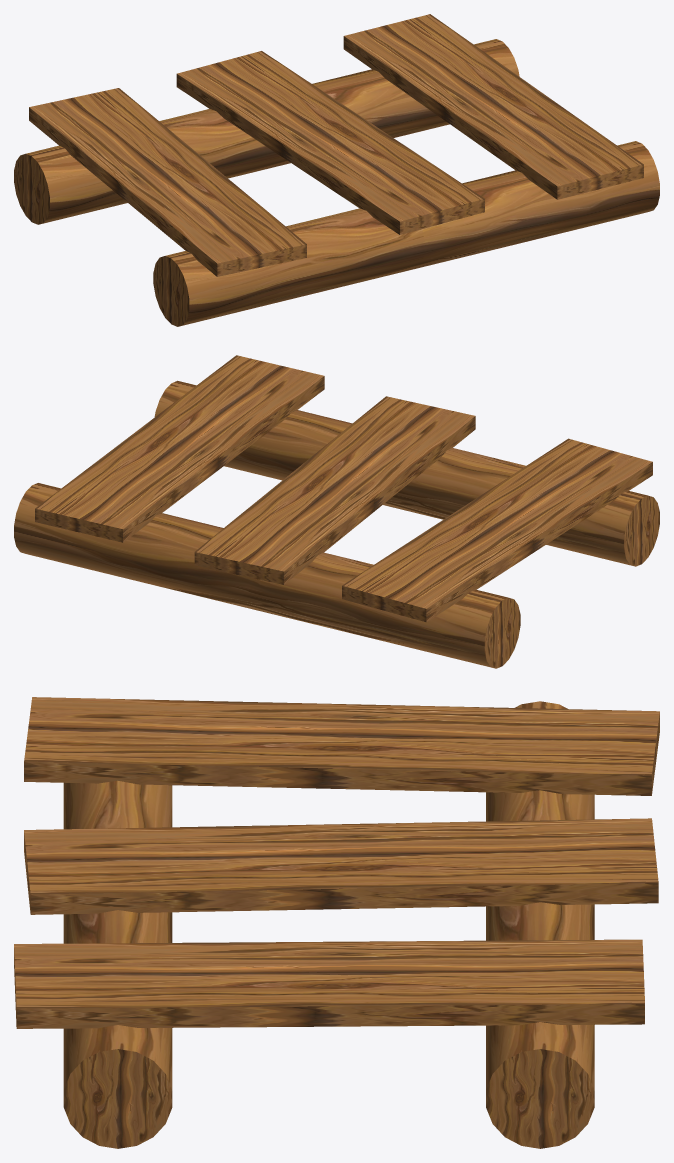
Rendered from Pallet.FBX.
The picture shows the model from 3 angles, top to bottom: view 1: azimuth 30°, elevation 25°; view 2: azimuth 150°, elevation 25°; view 3: azimuth 270°, elevation 25°; orthographic projection. The views are drawn at different scales.
Visible parts, largest first — view 1: Box003; view 2: Box003; view 3: Box003.
Boxes of the visible parts, x1,y1,x2,y2 form: Box003: (14, 14, 659, 326); Box003: (14, 355, 659, 668); Box003: (14, 697, 659, 1148).
Bounding box in the file's own units: 183 × 28.78 × 144.
